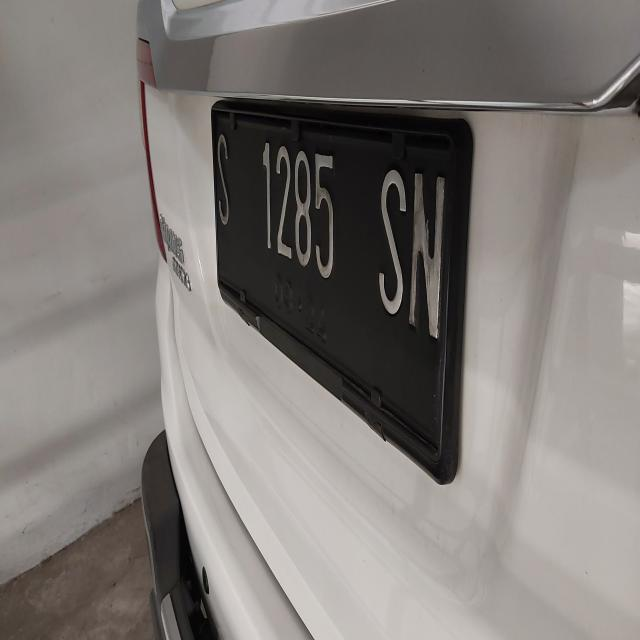1: (256, 138, 276, 255)
2: (270, 138, 300, 268)
5: (314, 143, 342, 282)
8: (290, 140, 316, 277)
N: (403, 152, 455, 358)
S: (366, 152, 409, 328), (214, 128, 238, 230)
